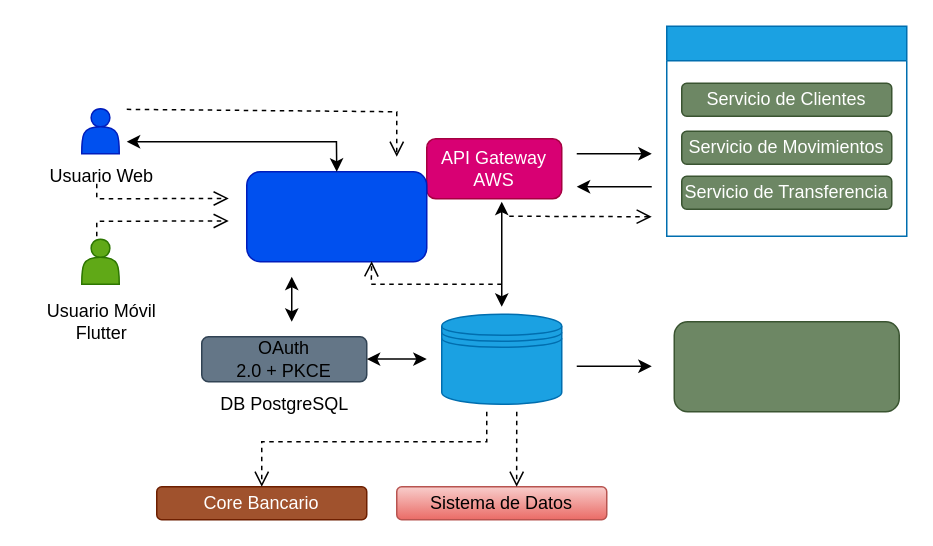
Some shapes in this 933 by 546 pixel diagram are drawn without their labels. Each missing label, with the box of its shape:
Microservicios: (665, 25, 907, 236)
Plataforma Bancaria Digital Sistema a diseñar: (245, 170, 427, 262)
PostgreSQL: (440, 313, 562, 404)
Servicios de Notificaciones (SMA / Email / Push): (673, 320, 899, 412)
